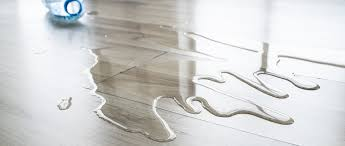Wet-floor: (87, 12, 335, 140)
